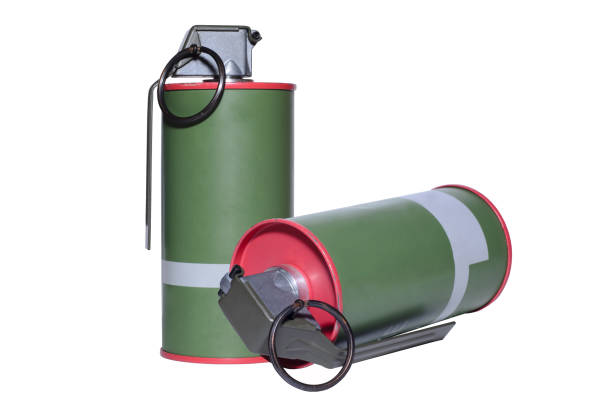e1: (225, 184, 534, 383), (142, 24, 297, 375)
